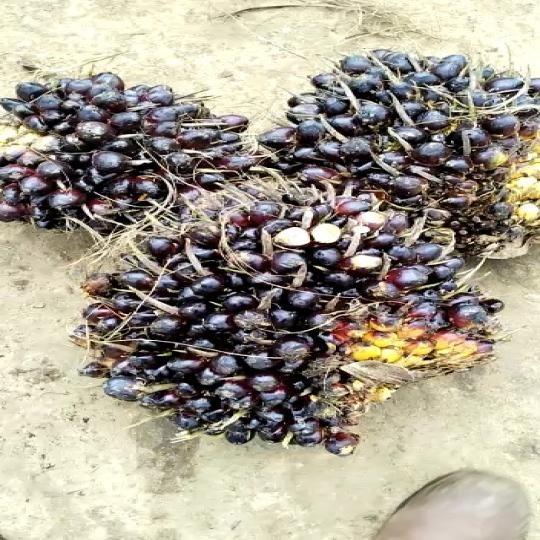mentah: (72, 162, 517, 451), (277, 34, 540, 264), (1, 60, 262, 228)
